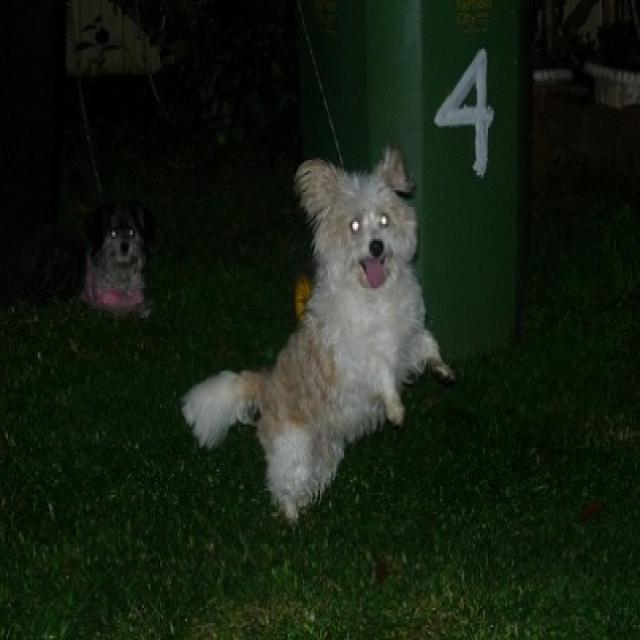Dog: (174, 109, 537, 539), (57, 190, 192, 368)
